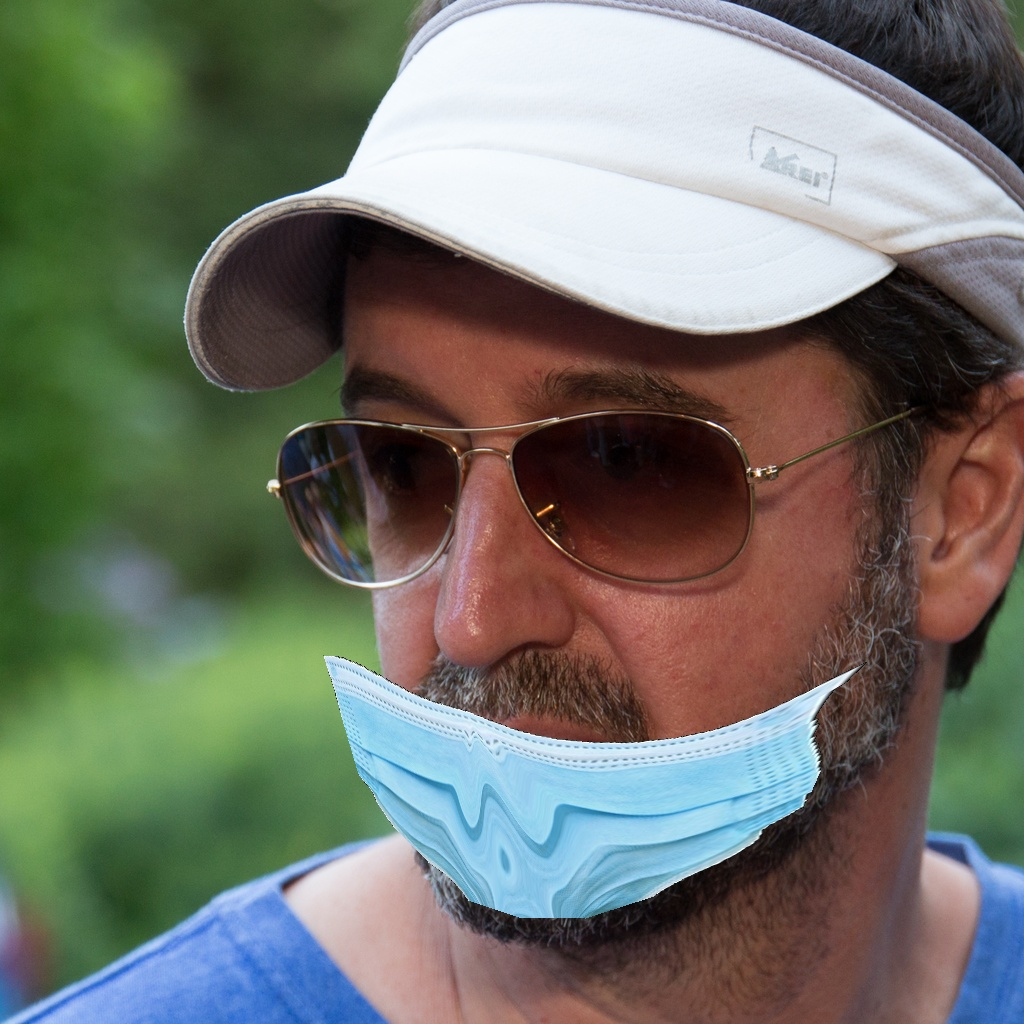mascarilla_mal_puesta: (267, 353, 874, 900)
